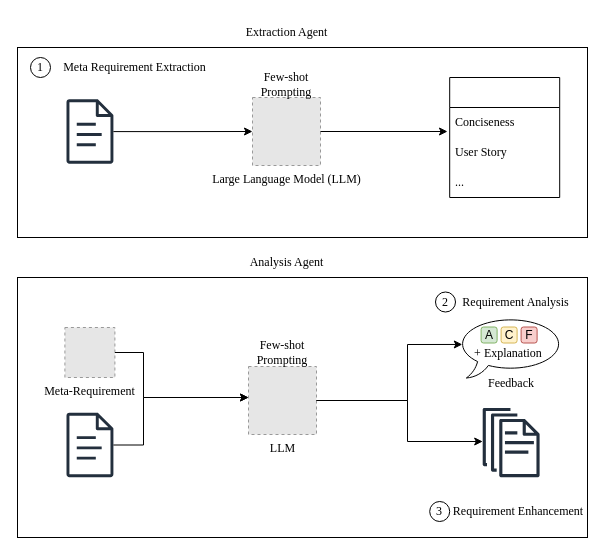
This 605x555 diagram has some shape labels left out. Grey dashed boxes stand in for pictures. Each missing label, with the box of its shape:
Meta-Requirements: (449, 76, 560, 198)
Requirement Artifact: (66, 412, 113, 477)
Specific Guideline: (66, 99, 113, 163)
Suggestions: (482, 407, 539, 477)
